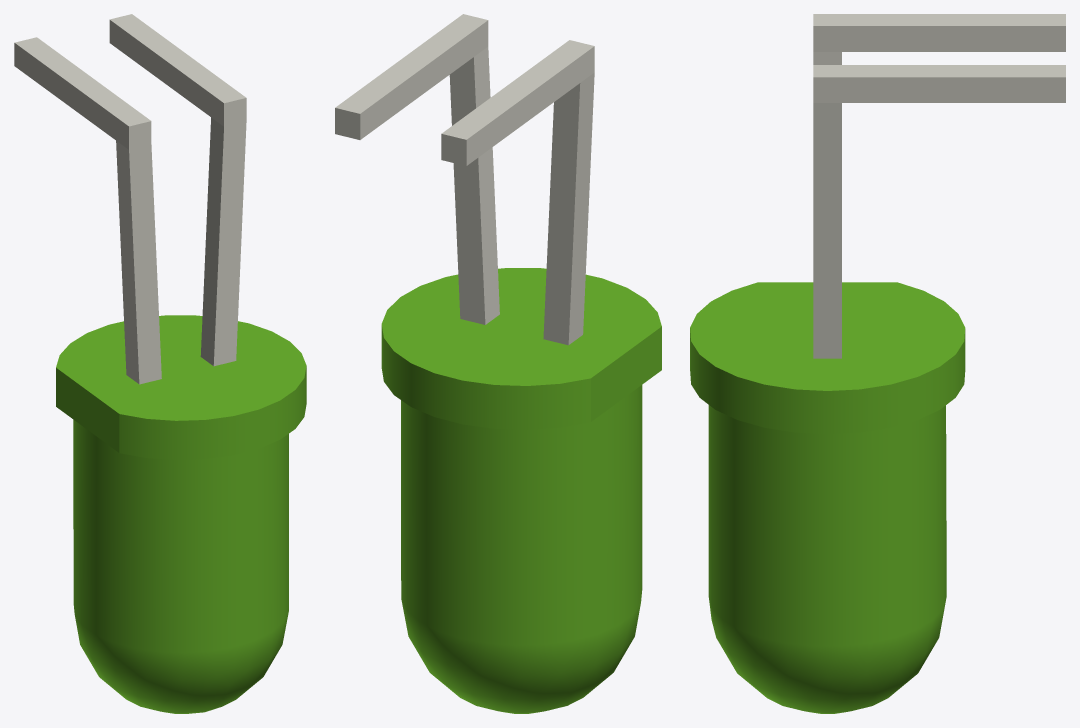
The model's file is LED_5mm_clear_short.glb.
The picture shows the model from 3 angles, left to right: view 1: azimuth 30°, elevation 25°; view 2: azimuth 150°, elevation 25°; view 3: azimuth 270°, elevation 25°; orthographic projection. The views are drawn at different scales.
Visible parts, largest first — view 1: LED_D5.0mm_Horizontal_O6.35mm_Z3.0mm; view 2: LED_D5.0mm_Horizontal_O6.35mm_Z3.0mm; view 3: LED_D5.0mm_Horizontal_O6.35mm_Z3.0mm.
Part boxes in pixels (x1,y1,x2,y2): LED_D5.0mm_Horizontal_O6.35mm_Z3.0mm: [14, 14, 306, 713]; LED_D5.0mm_Horizontal_O6.35mm_Z3.0mm: [335, 14, 661, 713]; LED_D5.0mm_Horizontal_O6.35mm_Z3.0mm: [690, 14, 1065, 713].
Size of the model in its own units: 0.0054 by 0.0152 by 0.00789.
